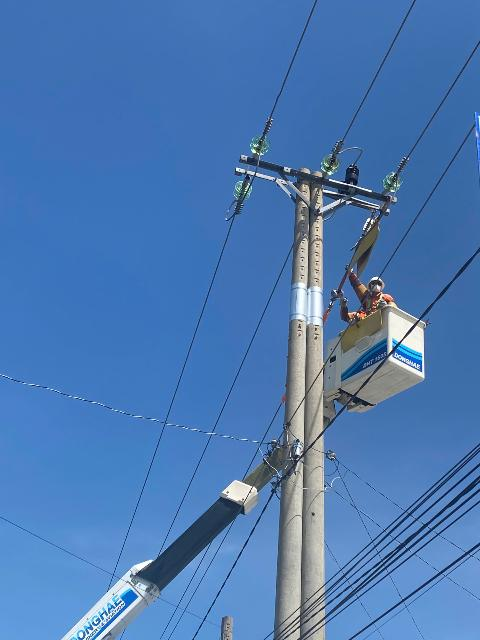gloves: (338, 298, 349, 309), (344, 265, 356, 274)
helmet: (358, 274, 389, 293)
